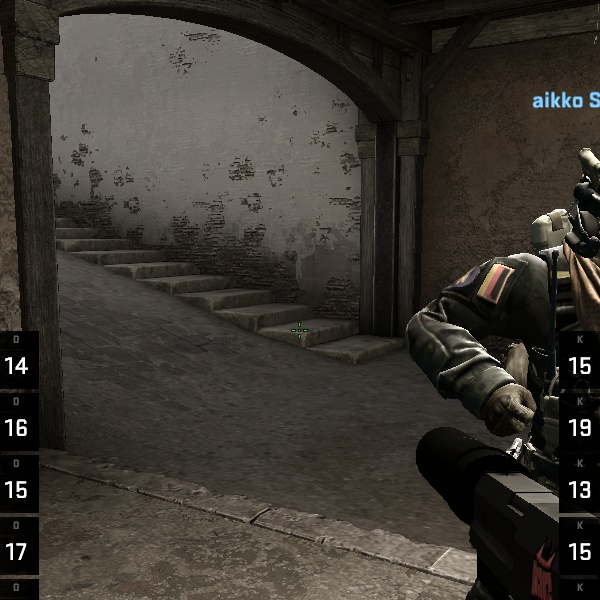ct_body: (407, 117, 593, 600)
